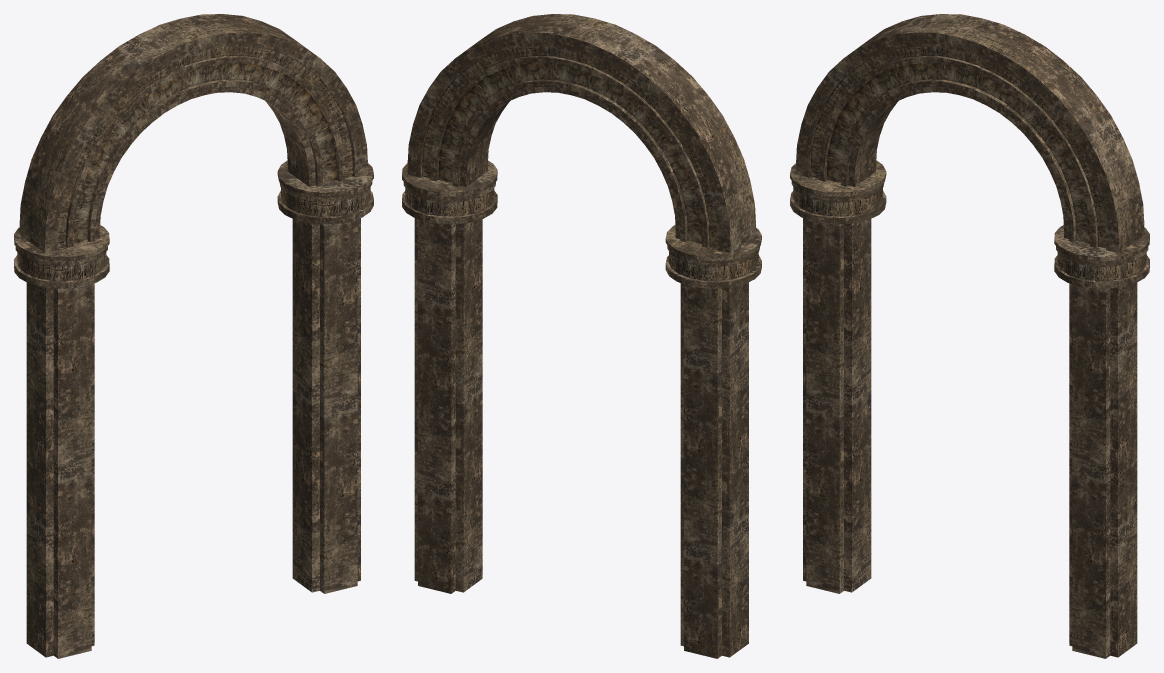
File: materials_5_gate_12.fbx
The picture shows the model from 3 angles, left to right: view 1: azimuth 30°, elevation 25°; view 2: azimuth 150°, elevation 25°; view 3: azimuth 330°, elevation 25°; orthographic projection.
Visible parts, largest first — view 1: materials_5_gate_12; view 2: materials_5_gate_12; view 3: materials_5_gate_12.
Boxes of the visible parts, left/top/right/bottom form: materials_5_gate_12: left=14, top=14, right=373, bottom=658; materials_5_gate_12: left=402, top=14, right=761, bottom=658; materials_5_gate_12: left=790, top=14, right=1149, bottom=658.
Size of the model in its own units: 174 by 279 by 41.7.
